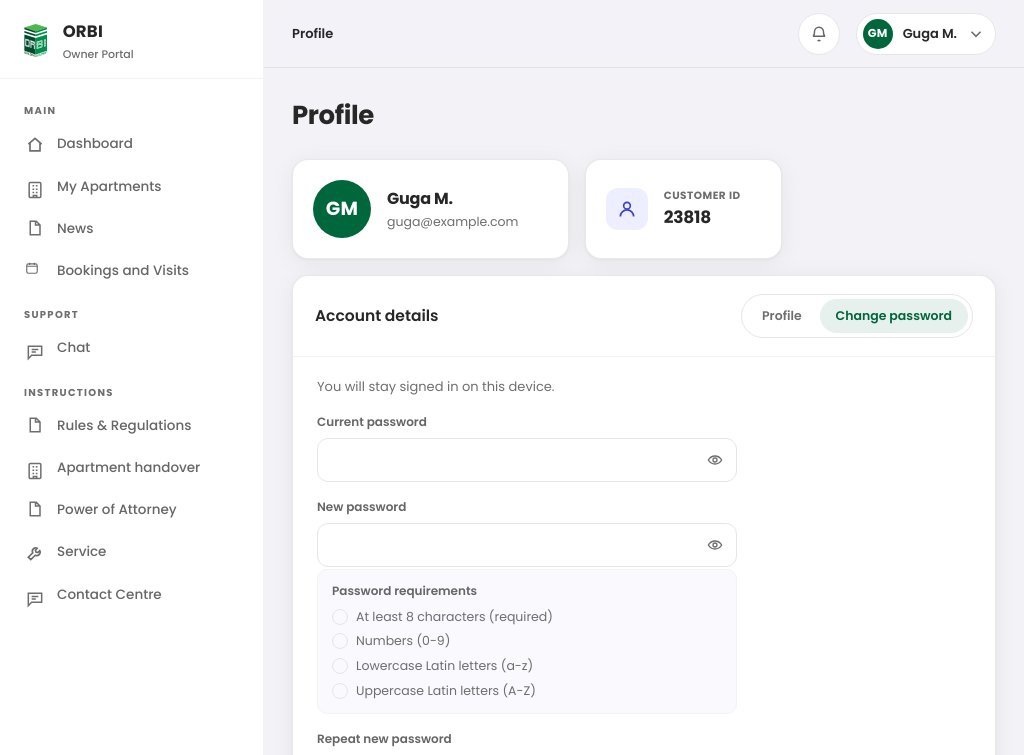
Test case: profile page › ?tab=security keeps submit disabled until all three fields are filled
This screenshot has width=1024, height=755.
Step 1. Type "oldpass1" into the password field labelled "Current password" → (527, 460), box x1=317 y1=438 x2=737 y2=482
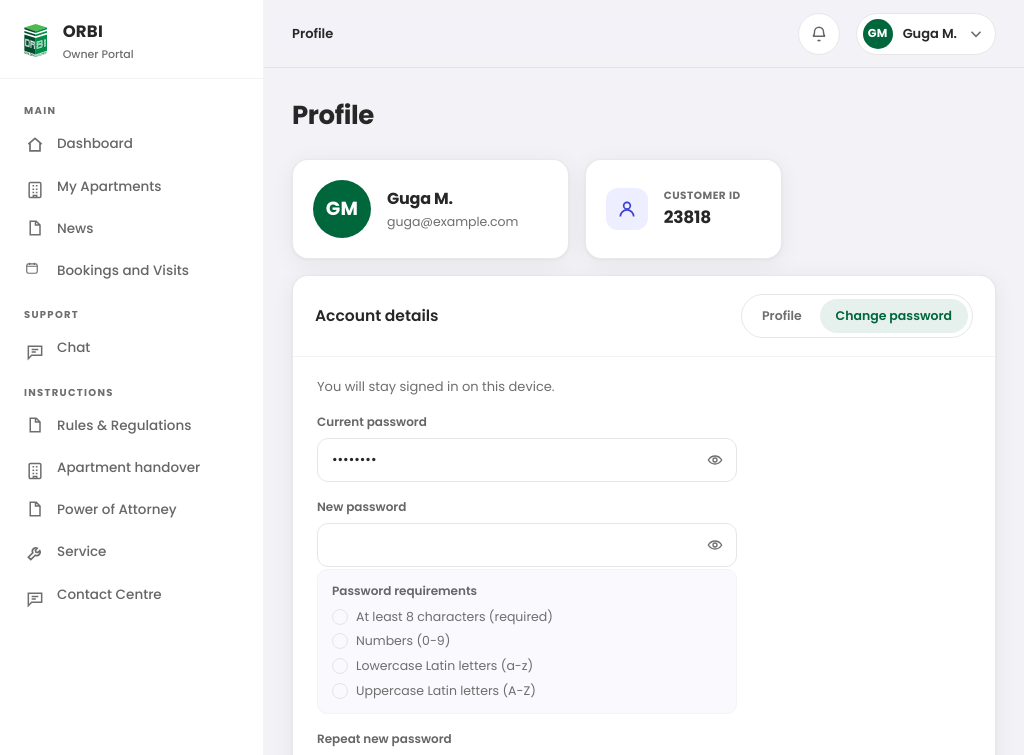
Step 2. Type "newpass1" into the password field labelled "New password" → (527, 544), box x1=317 y1=522 x2=737 y2=566
(page scrolled)
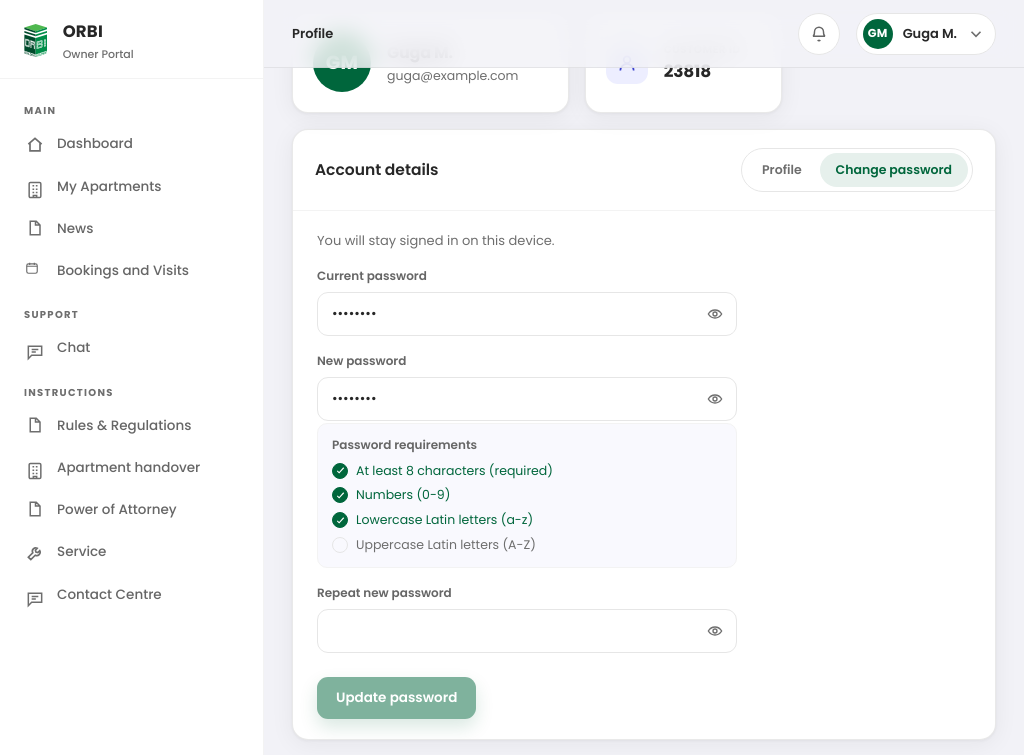
expect the button "Update password" is disabled: met, box x1=317 y1=676 x2=476 y2=718
Step 3. Type "newpass1" into the password field labelled "Repeat new password" → (527, 630), box x1=317 y1=608 x2=737 y2=652
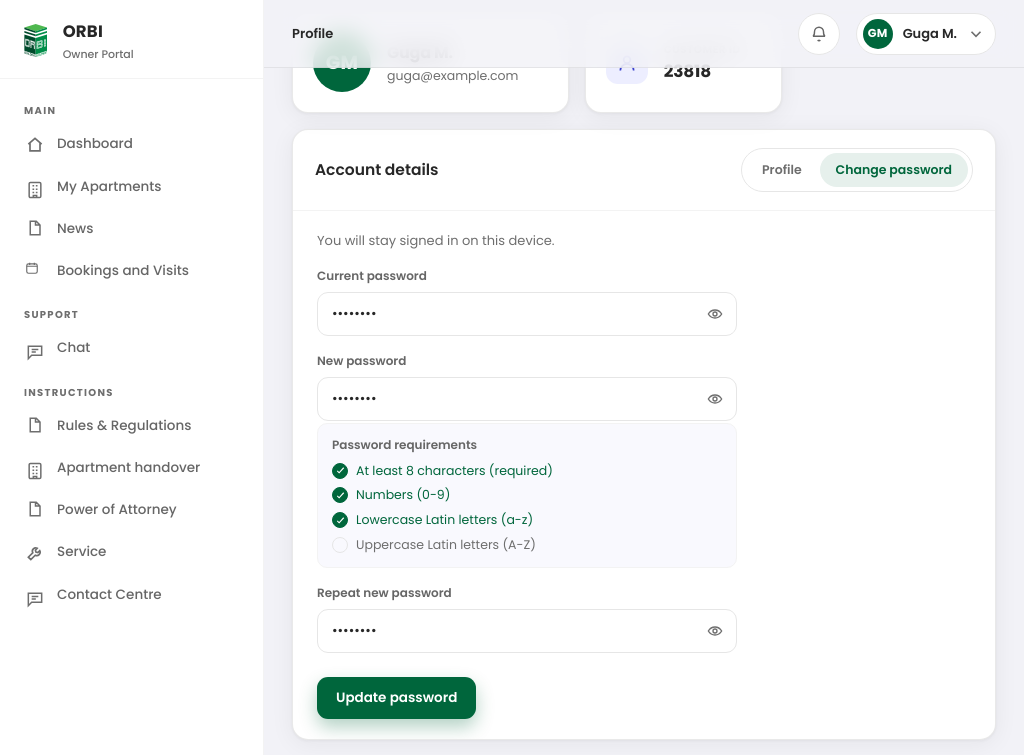
expect the button "Update password" is enabled: met, box x1=317 y1=676 x2=476 y2=718
